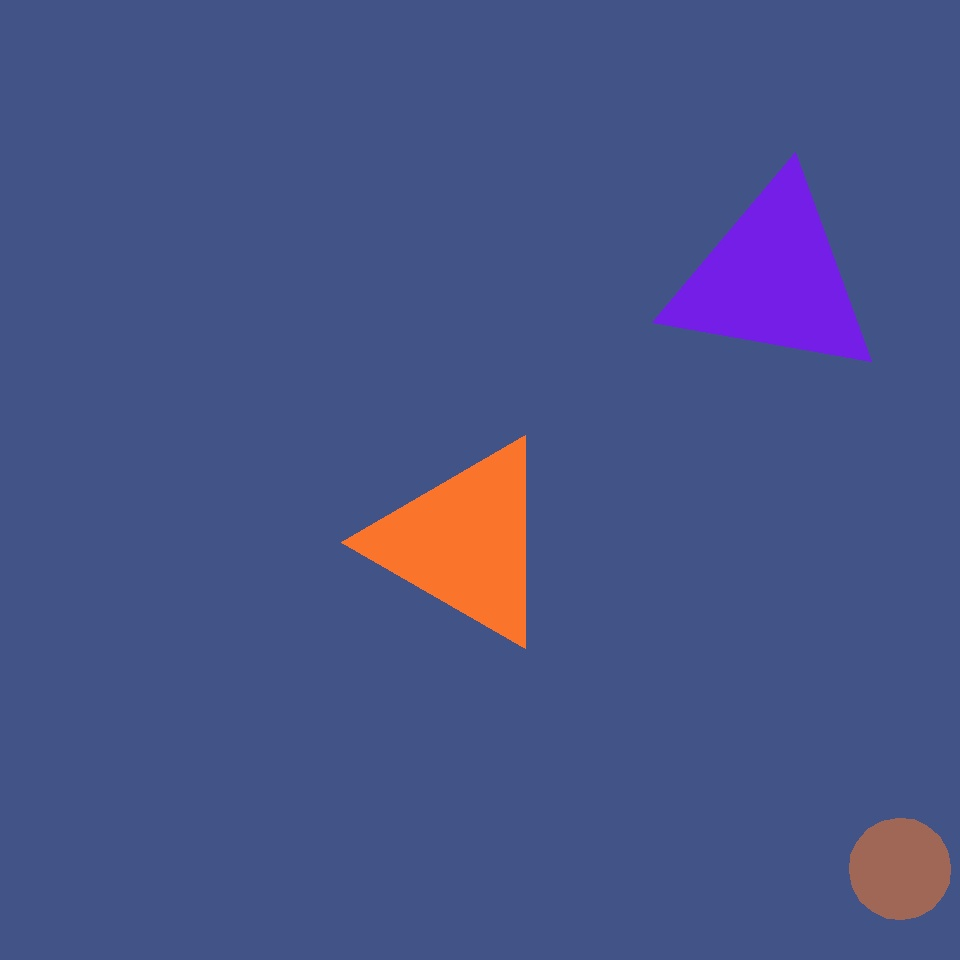circle: (664, 175, 882, 384), (372, 436, 556, 648)
square: (74, 475, 410, 811), (256, 469, 489, 702), (162, 427, 383, 648)
triangle: (527, 145, 706, 324), (318, 204, 469, 356), (850, 818, 950, 920)
